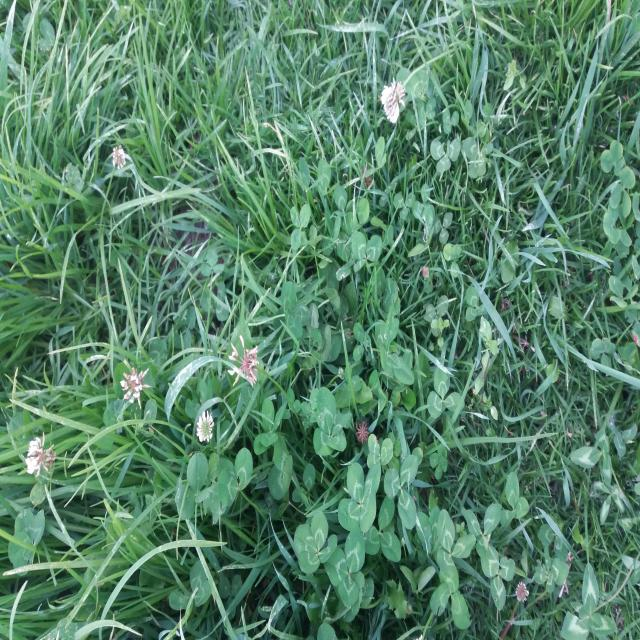Four Leaf Clover: (339, 462, 381, 532), (294, 511, 336, 572), (253, 398, 285, 455)
